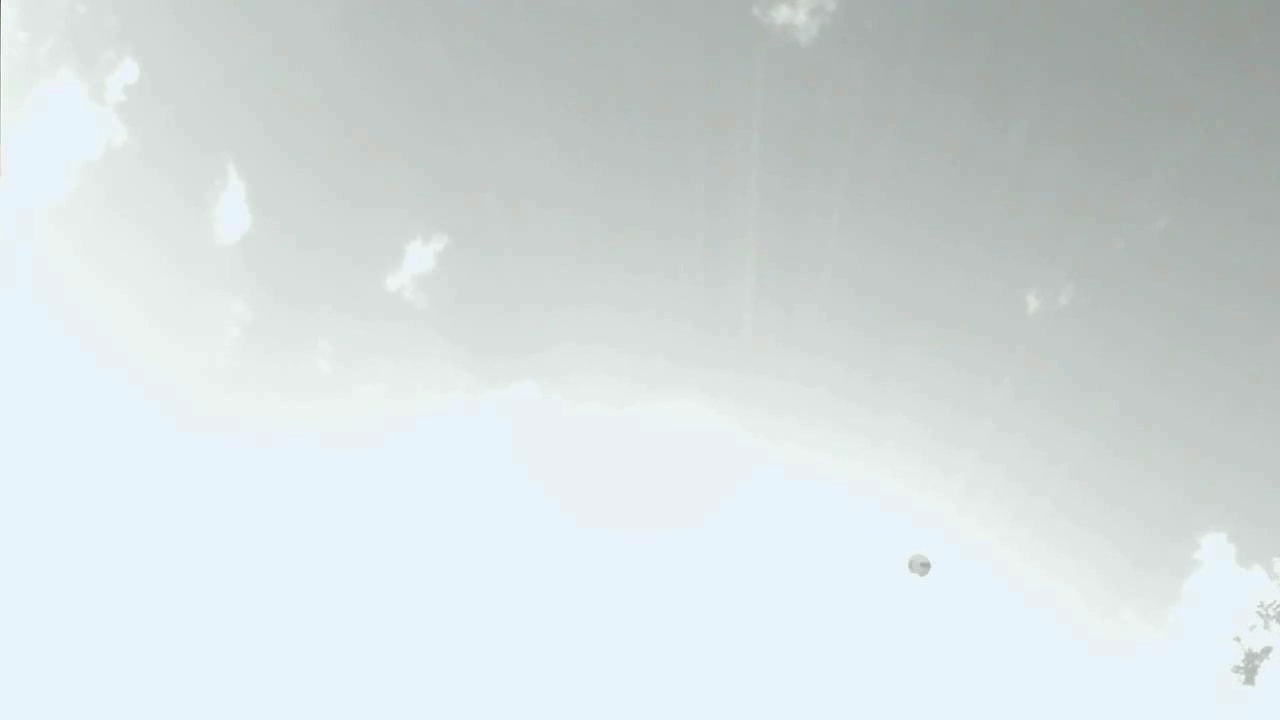Football-Spotter: (909, 554, 931, 576)
